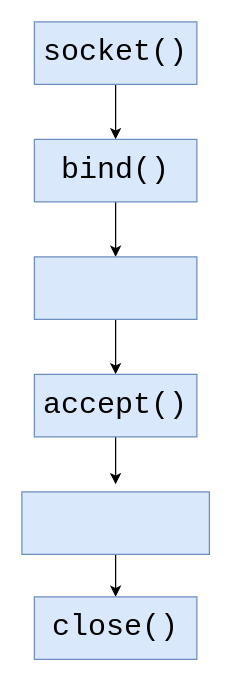
The diagram is 231 pixels wide and 681 high, and some of its shapes have lost their labels. Each missing label, with the centre of its shape:
listen(): (x=115, y=287)
read/write: (x=115, y=522)
